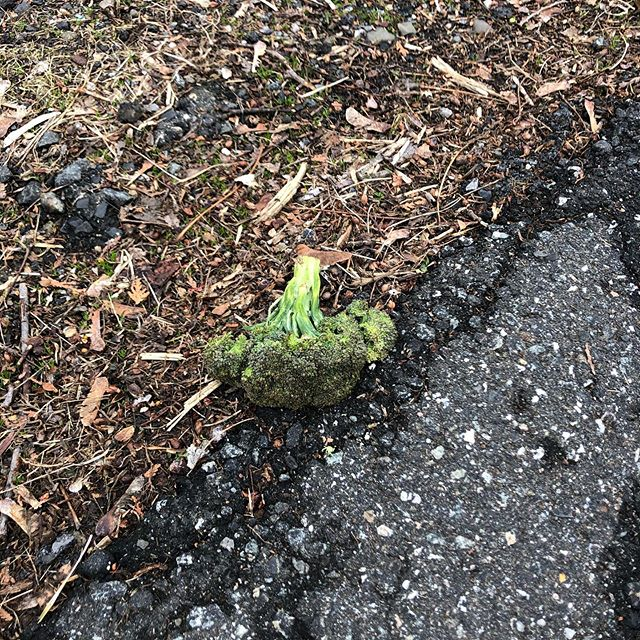trash: (186, 234, 418, 427)
